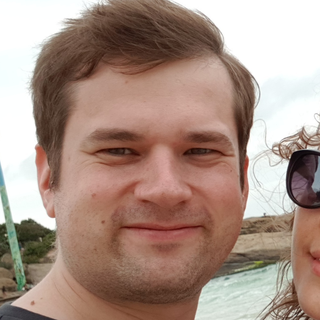eye: (91, 141, 143, 164), (177, 141, 226, 164)
